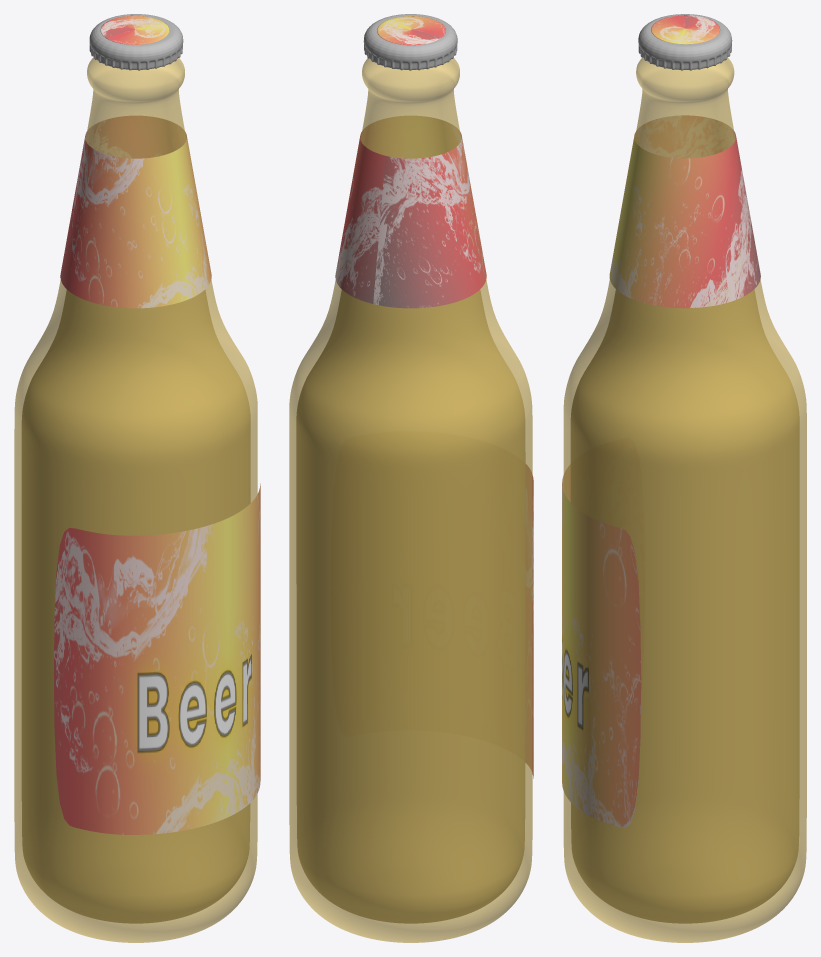
The model's file is Bottle beer.fbx.
3 views of the same model, side by side, from view 1: azimuth 30°, elevation 25°; view 2: azimuth 150°, elevation 25°; view 3: azimuth 270°, elevation 25° (orthographic).
Parts seen in each view (by area): view 1: Cylinder, Cylinder.002, Cylinder.004, Cylinder.003, Cylinder.001, Sphere; view 2: Cylinder, Cylinder.002, Cylinder.003, Cylinder.001, Cylinder.004, Sphere; view 3: Cylinder, Cylinder.002, Cylinder.003, Cylinder.004, Cylinder.001, Sphere.
Boxes of the visible parts, x1,y1,x2,y2 form: Cylinder: [14, 57, 257, 942]; Cylinder.002: [21, 290, 250, 923]; Cylinder.004: [53, 483, 260, 834]; Cylinder.003: [60, 116, 211, 308]; Cylinder.001: [89, 14, 183, 70]; Sphere: [100, 15, 169, 44]; Cylinder: [289, 58, 532, 942]; Cylinder.002: [296, 290, 525, 923]; Cylinder.003: [335, 116, 486, 308]; Cylinder.001: [363, 14, 457, 70]; Cylinder.004: [525, 464, 533, 778]; Sphere: [377, 16, 445, 45]; Cylinder: [563, 57, 806, 942]; Cylinder.002: [570, 289, 799, 923]; Cylinder.003: [609, 115, 760, 308]; Cylinder.004: [562, 465, 641, 827]; Cylinder.001: [638, 14, 732, 70]; Sphere: [651, 15, 720, 44].
Bounding box in the file's own units: 9.35 × 37.44 × 9.39.
